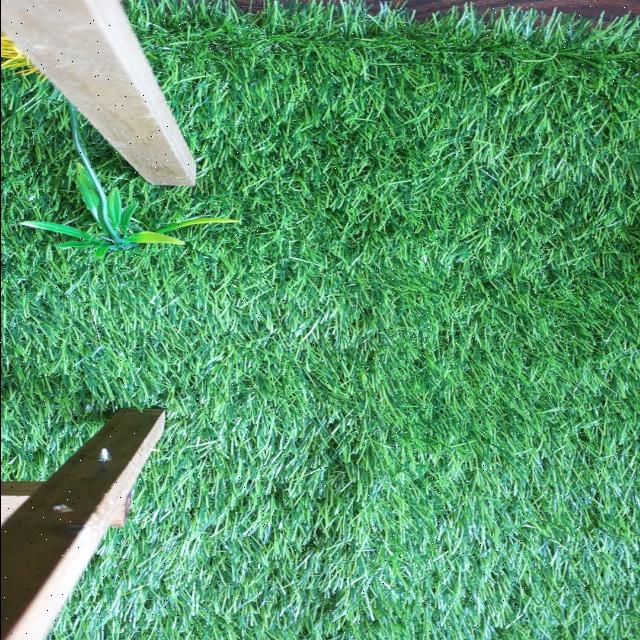base: (18, 166, 235, 252)
flower: (0, 31, 54, 79)
